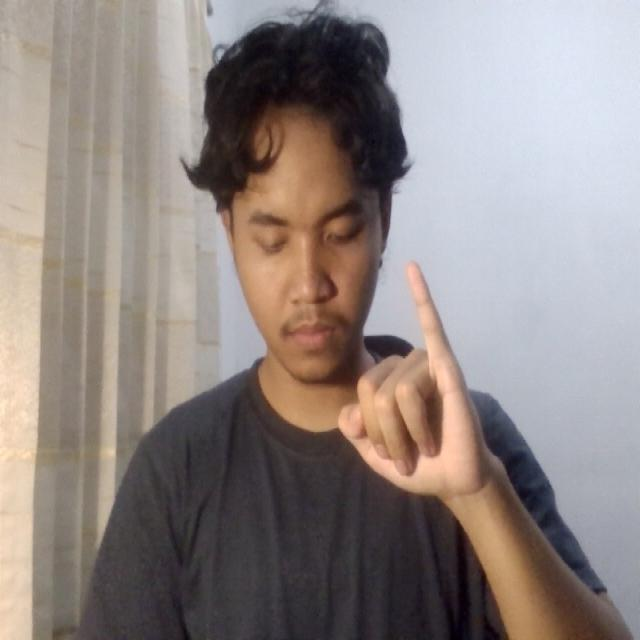Hello: (323, 252, 505, 520)
